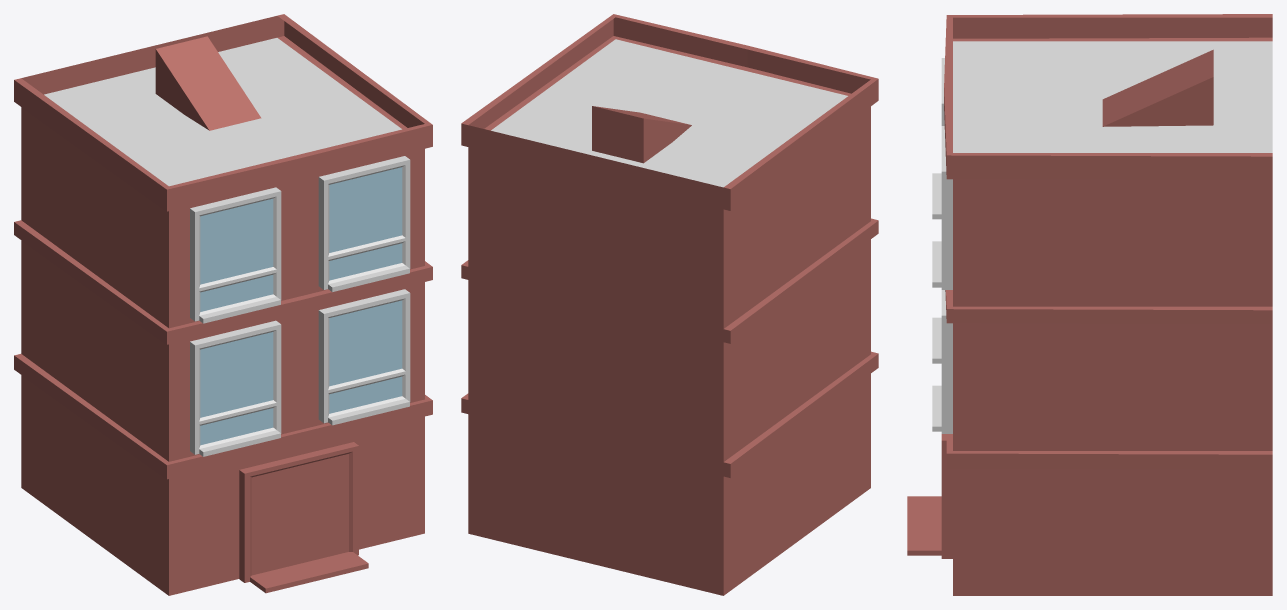
Rendered from Apt3.seperated.fbx.
3 renders of one model, left to right at view 1: azimuth 30°, elevation 25°; view 2: azimuth 150°, elevation 25°; view 3: azimuth 270°, elevation 25°, orthographic. The views are drawn at different scales.
Parts seen in each view (by area): view 1: house1, building.seperator, window.glass, roof, window.frame, door.inner, roof.door, door.frame, door.step; view 2: house1, building.seperator, roof, roof.door; view 3: house1, building.seperator, roof, roof.door, window.frame, door.step, door.frame.
Part boxes in pixels (<box>): house1: <box>21,107,424,595</box>; building.seperator: <box>14,14,432,479</box>; window.glass: <box>200,167,402,445</box>; roof: <box>44,38,401,186</box>; window.frame: <box>190,156,410,456</box>; door.inner: <box>252,454,348,575</box>; roof.door: <box>155,36,261,130</box>; door.frame: <box>239,442,358,582</box>; door.step: <box>250,552,368,593</box>; house1: <box>468,106,870,595</box>; building.seperator: <box>461,14,878,477</box>; roof: <box>491,39,847,187</box>; roof.door: <box>592,106,691,163</box>; house1: <box>953,179,1272,595</box>; building.seperator: <box>944,14,1272,469</box>; roof: <box>953,41,1272,152</box>; roof.door: <box>1102,49,1213,126</box>; window.frame: <box>932,58,952,433</box>; door.step: <box>907,496,941,555</box>; door.frame: <box>941,434,952,558</box>.
Bounding box in the file's own units: 974 × 1493 × 1055.
